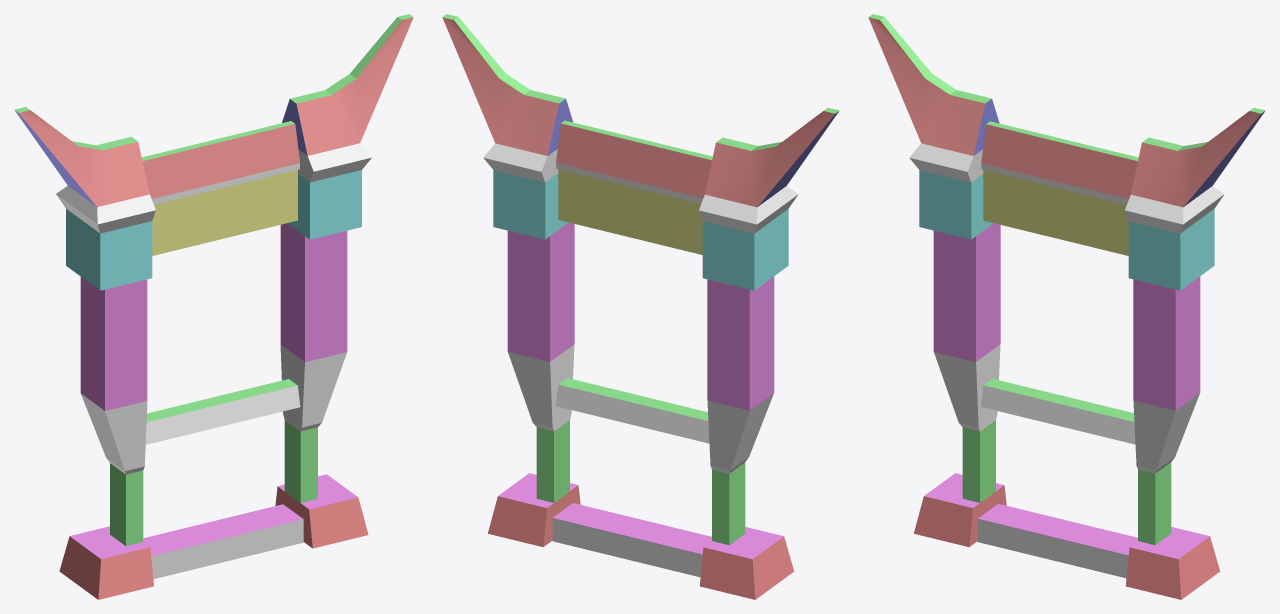
The model's file is O_DE_BulletinBody.gltf.
The picture shows the model from 3 angles, left to right: view 1: azimuth 30°, elevation 25°; view 2: azimuth 150°, elevation 25°; view 3: azimuth 330°, elevation 25°; orthographic projection.
Visible parts, largest first — view 1: O_DE_BulletinBody; view 2: O_DE_BulletinBody; view 3: O_DE_BulletinBody.
Part boxes in pixels (box(x1,y1,x2,y2)): O_DE_BulletinBody: box(14, 14, 413, 599); O_DE_BulletinBody: box(442, 14, 839, 599); O_DE_BulletinBody: box(868, 14, 1265, 599).
Bounding box in the file's own units: 0.6681 × 0.7941 × 0.1227.
